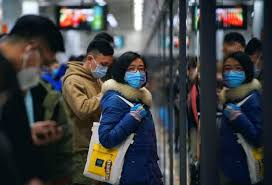mask: (11, 17, 64, 99), (224, 48, 251, 90), (88, 37, 114, 79), (121, 50, 146, 87)
